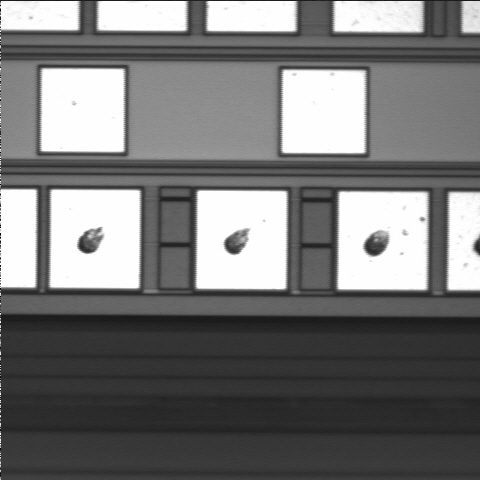pad: (196, 191, 287, 289), (50, 190, 140, 288), (338, 192, 427, 290), (41, 69, 124, 152), (282, 70, 365, 153)
